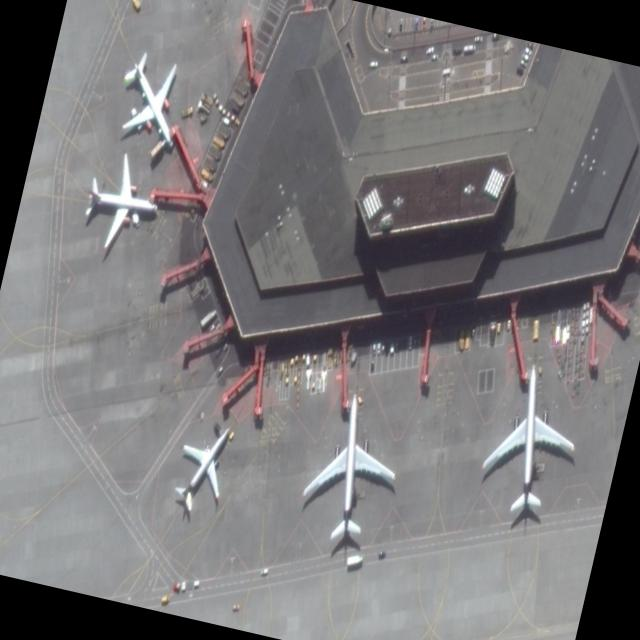plane: (294, 382, 409, 554), (473, 347, 584, 524), (110, 15, 191, 191), (167, 388, 238, 550), (78, 143, 163, 258)
small-vehicle: (407, 331, 412, 349), (371, 339, 376, 353), (375, 338, 380, 352)
